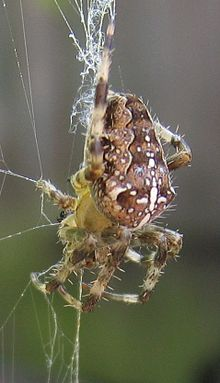spider: (28, 4, 198, 319)
